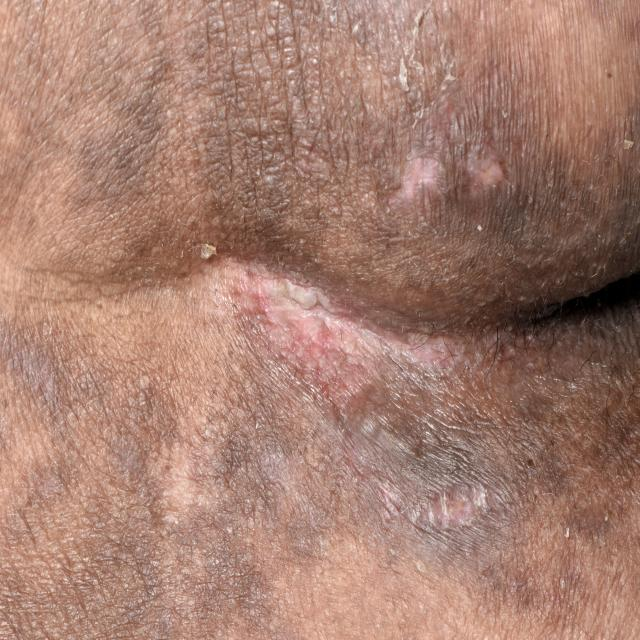wound: (167, 197, 640, 485)
